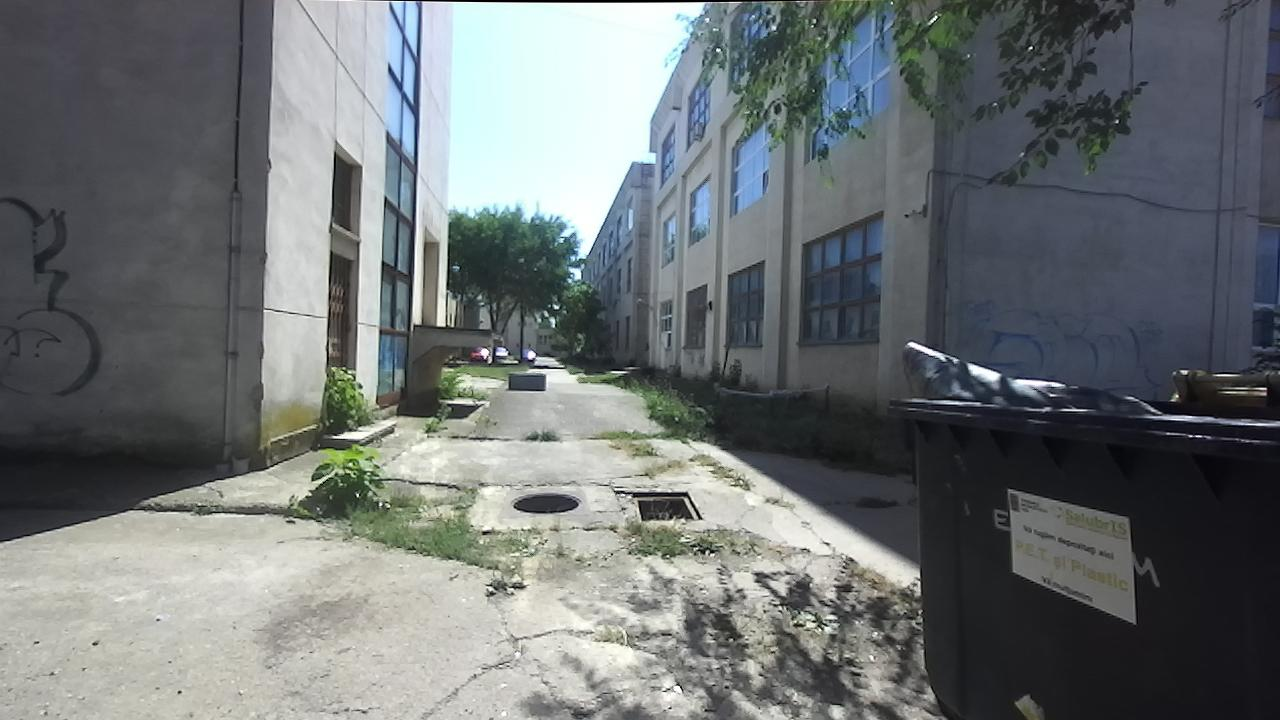drain: (630, 486, 705, 525), (507, 487, 586, 518)
